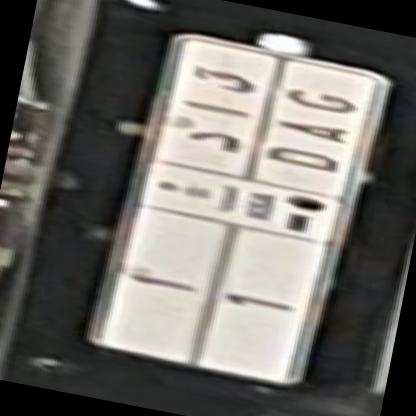english: (214, 60, 368, 398)
